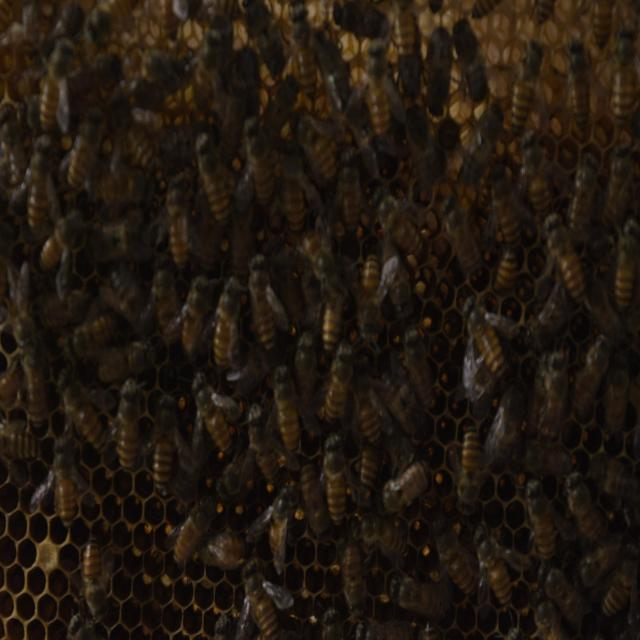honeybee: (59, 365, 110, 454), (237, 0, 291, 82), (370, 188, 433, 258), (288, 106, 346, 177), (234, 554, 279, 640), (107, 84, 150, 170), (364, 39, 399, 142), (37, 42, 75, 131), (48, 426, 84, 517), (548, 213, 583, 306), (188, 369, 226, 454), (508, 42, 544, 130), (289, 0, 321, 99), (201, 124, 232, 225), (466, 98, 500, 190), (466, 292, 503, 376), (396, 1, 428, 98), (69, 308, 131, 358), (477, 525, 513, 611), (345, 509, 415, 553), (445, 190, 477, 286), (43, 206, 88, 273), (453, 19, 487, 105), (610, 29, 640, 126), (605, 541, 640, 624), (72, 108, 105, 196), (382, 574, 451, 616), (188, 21, 218, 117), (269, 365, 303, 448), (170, 498, 206, 576), (280, 141, 308, 241), (525, 127, 555, 220), (570, 332, 600, 424), (489, 390, 524, 468), (541, 560, 585, 622), (179, 269, 209, 359), (382, 462, 434, 513), (563, 39, 593, 127), (400, 100, 431, 184), (246, 117, 275, 206), (150, 390, 178, 482), (214, 274, 242, 366), (454, 423, 485, 506), (361, 366, 393, 445), (96, 336, 156, 378), (318, 430, 346, 519), (606, 140, 636, 223), (247, 256, 278, 336), (324, 342, 354, 424), (407, 319, 437, 401), (26, 135, 52, 229), (86, 0, 141, 44), (425, 30, 452, 119), (18, 329, 46, 414), (164, 174, 192, 259), (540, 353, 568, 437), (36, 290, 91, 332), (570, 146, 596, 232), (116, 381, 141, 470), (442, 523, 475, 589), (566, 474, 596, 545), (614, 227, 640, 307), (340, 146, 362, 238), (252, 400, 276, 484), (112, 272, 146, 330), (527, 480, 555, 550), (82, 541, 108, 614), (608, 354, 634, 426), (154, 271, 180, 342), (320, 270, 344, 342), (0, 421, 42, 462), (493, 162, 515, 236), (530, 597, 565, 640), (590, 0, 616, 54), (493, 244, 517, 300), (344, 548, 364, 614), (366, 251, 384, 309)
